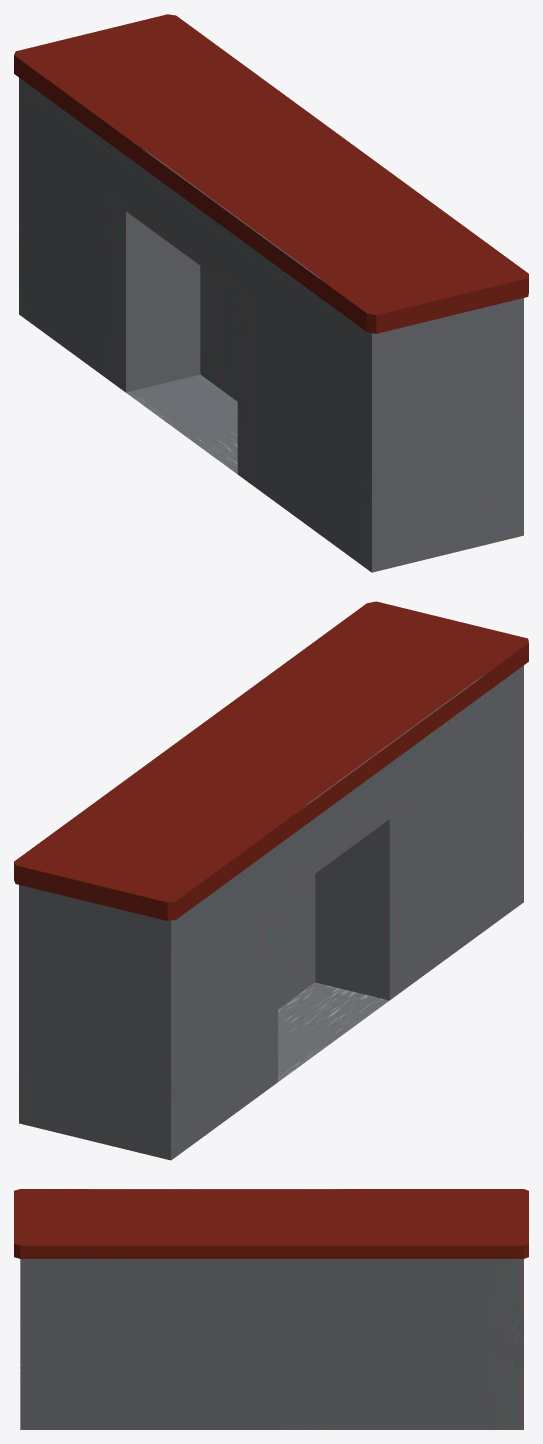
The model's file is CounterGarbage.fbx.
3 renders of one model, top to bottom at view 1: azimuth 30°, elevation 25°; view 2: azimuth 150°, elevation 25°; view 3: azimuth 270°, elevation 25°, orthographic. The views are drawn at different scales.
Parts seen in each view (by area): view 1: CounterHole; view 2: CounterHole; view 3: CounterHole.
Part boxes in pixels (x1=…): CounterHole: x1=14, y1=14, x2=528, y2=572; CounterHole: x1=14, y1=601, x2=528, y2=1160; CounterHole: x1=14, y1=1189, x2=528, y2=1429.
Bounding box in the file's own units: 309 × 475 × 1191.
Materials: 1 (1 with a texture image).
